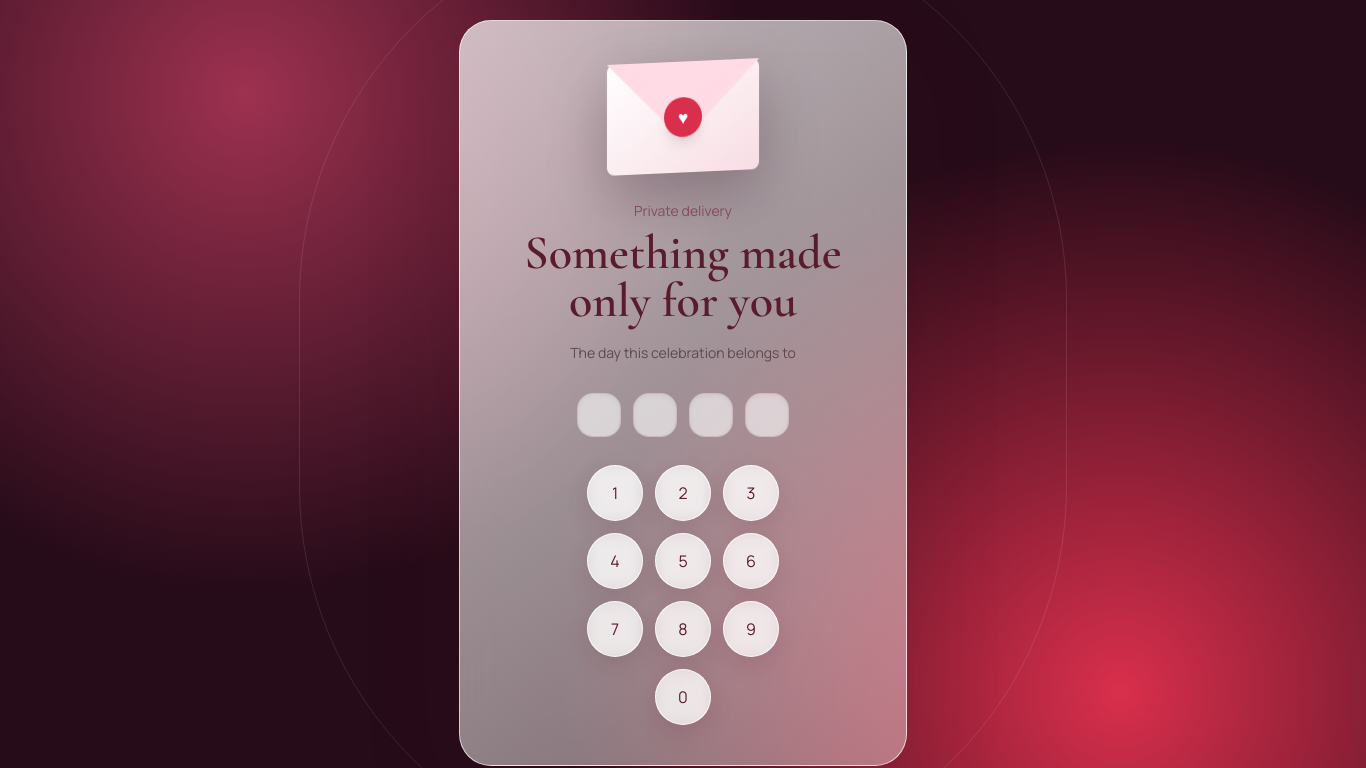
PasscodeChapter keyboard entry › centers zero and does not reveal the birthday-date hint after a wrong code
Click the button "1" at point(615, 493), box [587,465,643,521]
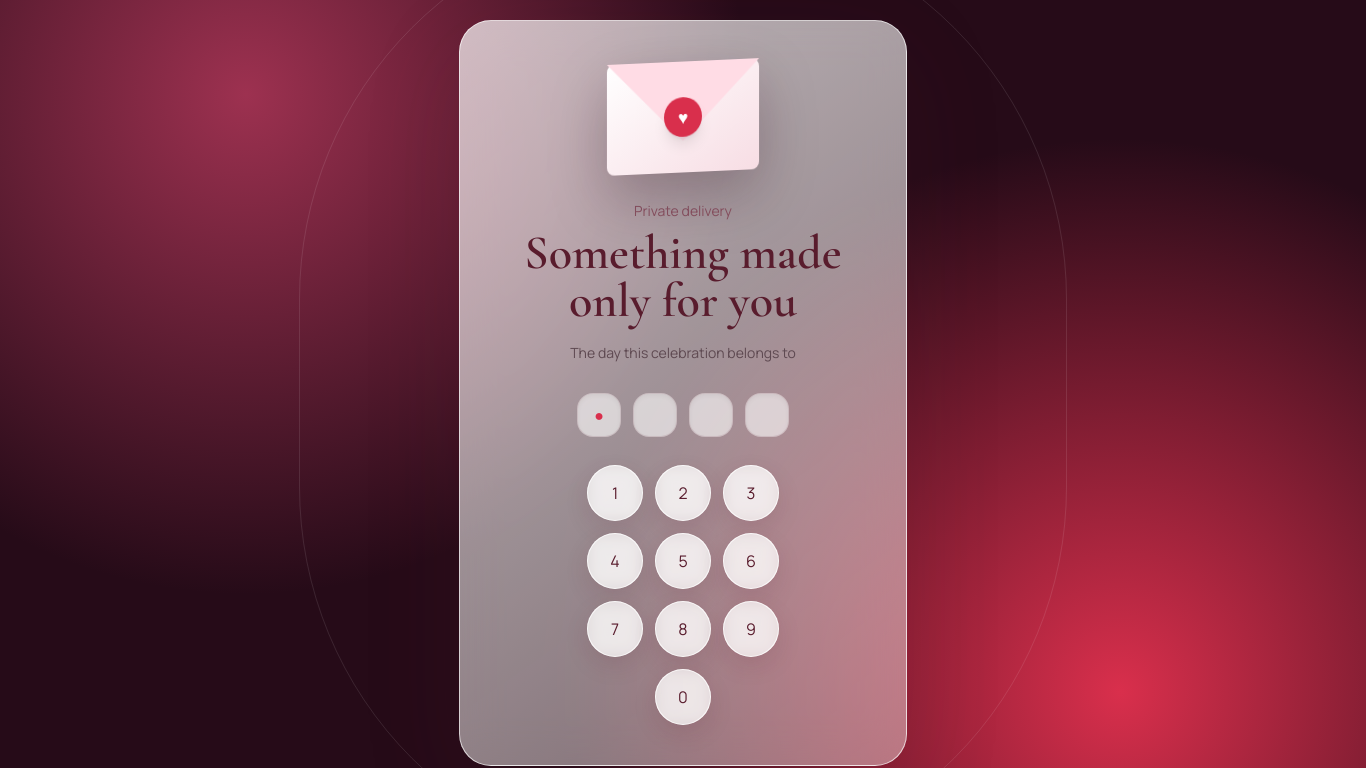
Click the button "2" at point(683, 493), box [655,465,711,521]
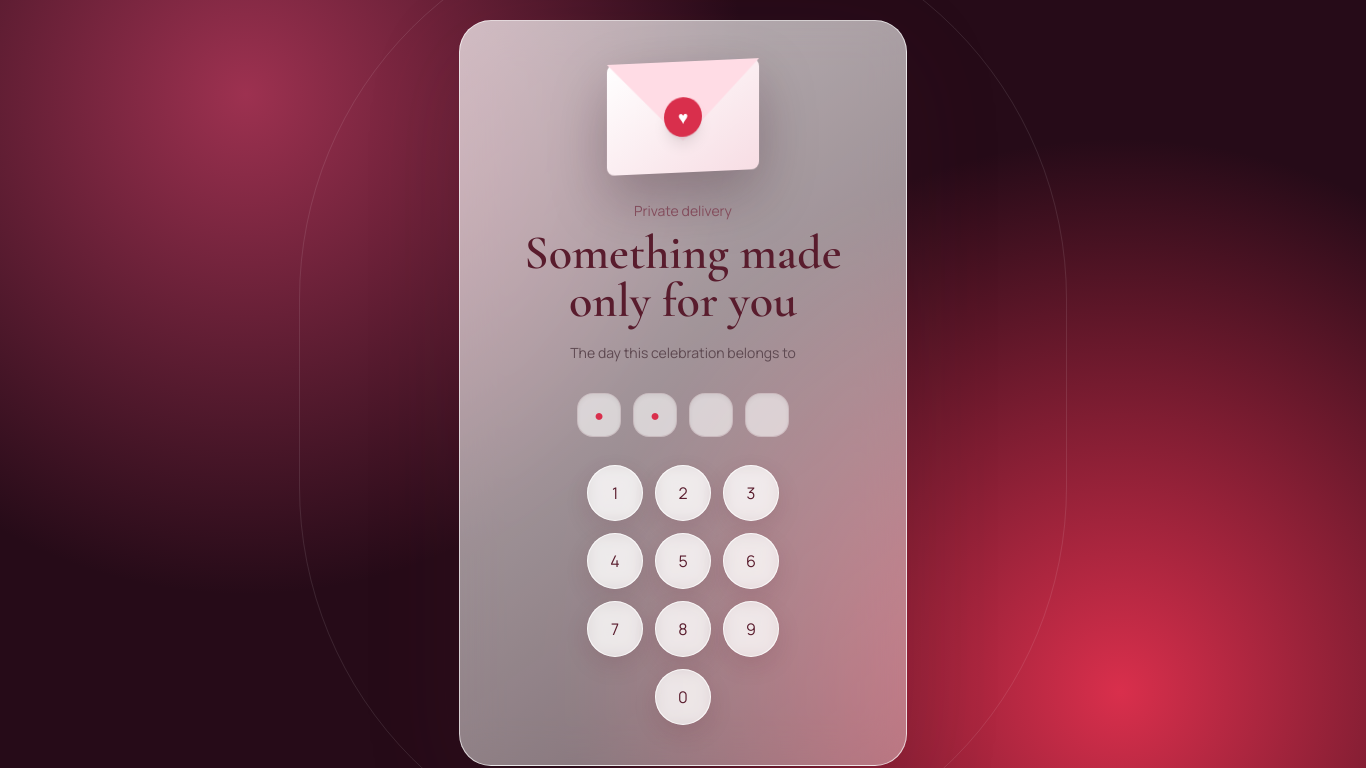
Click the button "3" at point(751, 493), box [723,465,779,521]
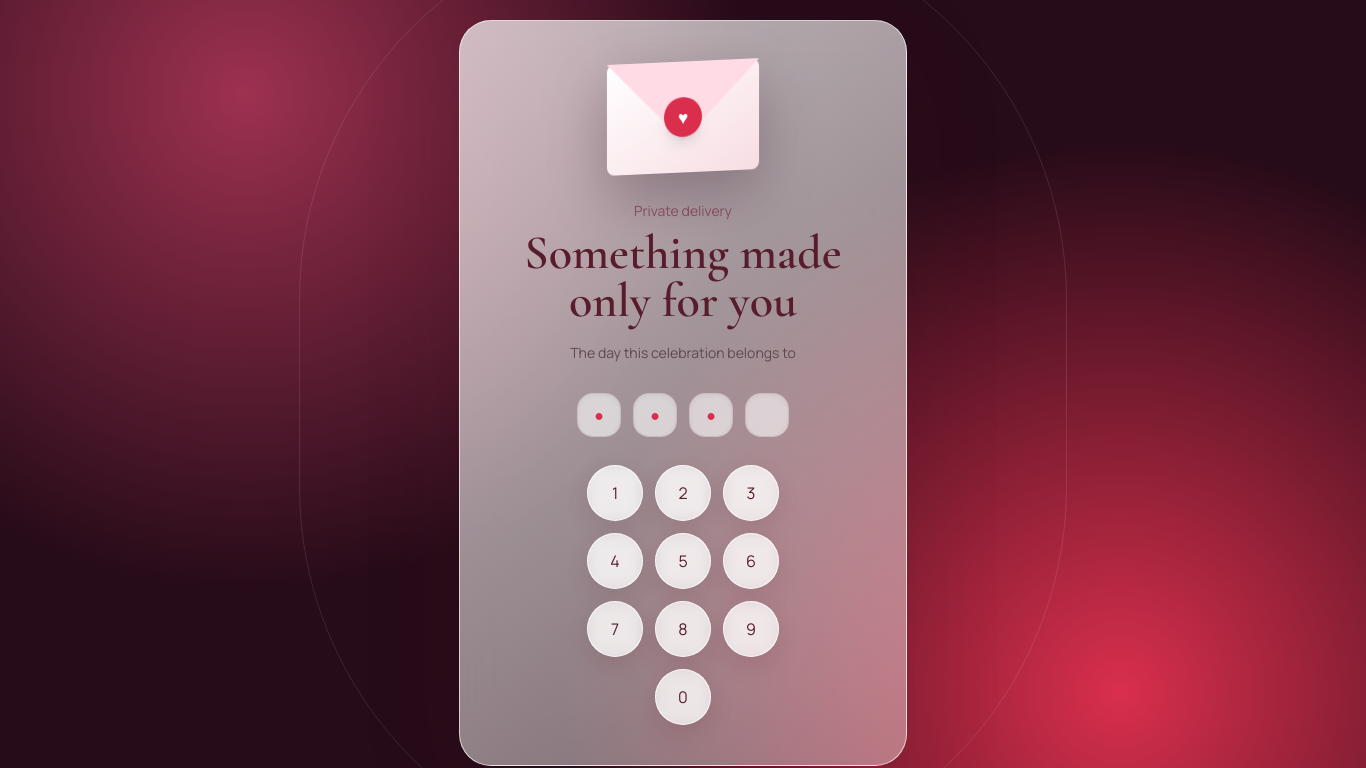
Click the button "4" at point(615, 561), box [587,533,643,589]
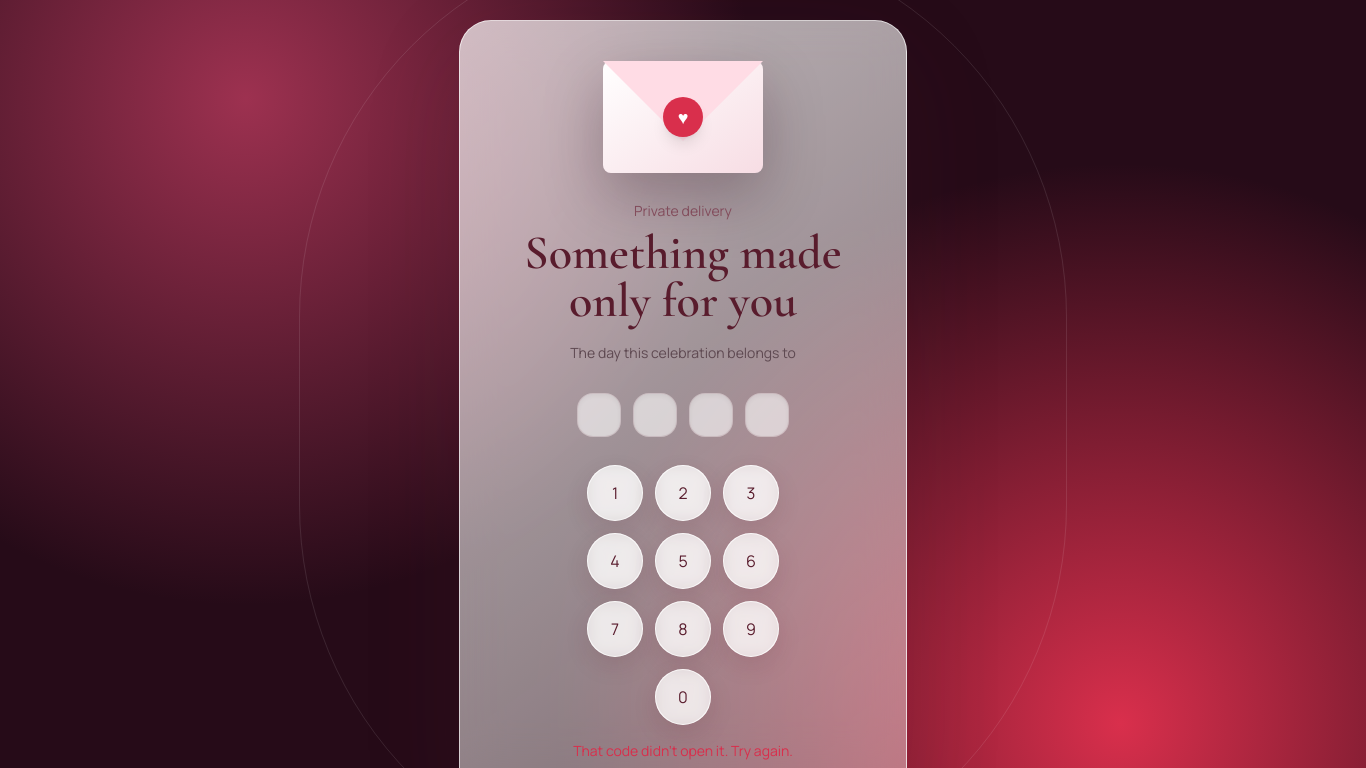
Expected: the message reads "That code didn't open it. Try again.", [573,741,793,760]
